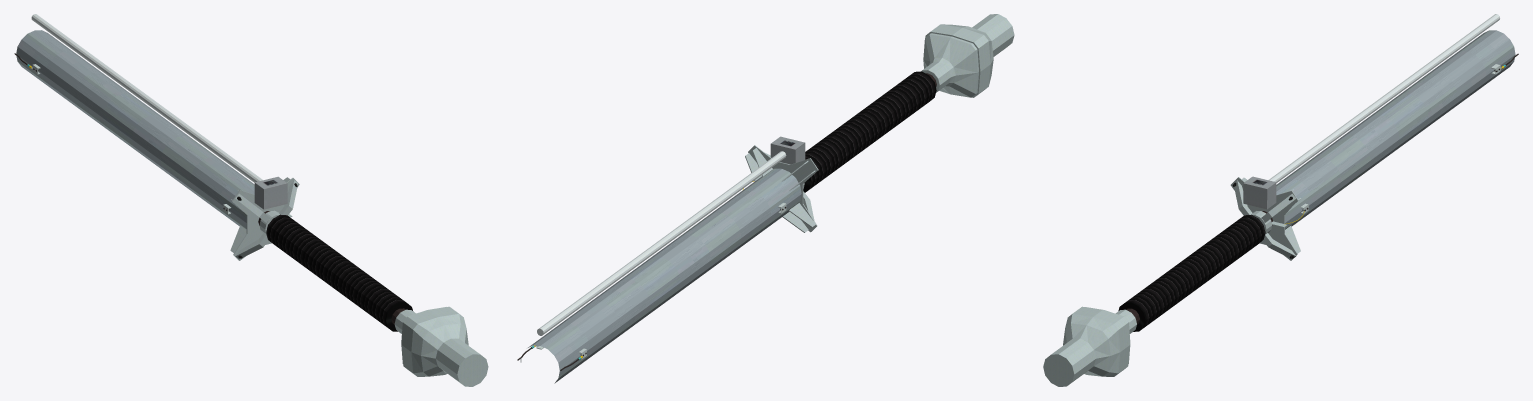
The model's file is ct-11m00000002870368-geode.glb.
The picture shows the model from 3 angles, left to right: view 1: azimuth 30°, elevation 25°; view 2: azimuth 150°, elevation 25°; view 3: azimuth 330°, elevation 25°; orthographic projection. The views are drawn at different scales.
Visible parts, largest first — view 1: Node; view 2: Node; view 3: Node.
Part boxes in pixels (x1=…): Node: x1=14, y1=14, x2=488, y2=386; Node: x1=517, y1=14, x2=1014, y2=383; Node: x1=1043, y1=14, x2=1518, y2=386.
Size of the model in its own units: 0.723 by 0.7714 by 8.15.
12 materials, 12 textured.
